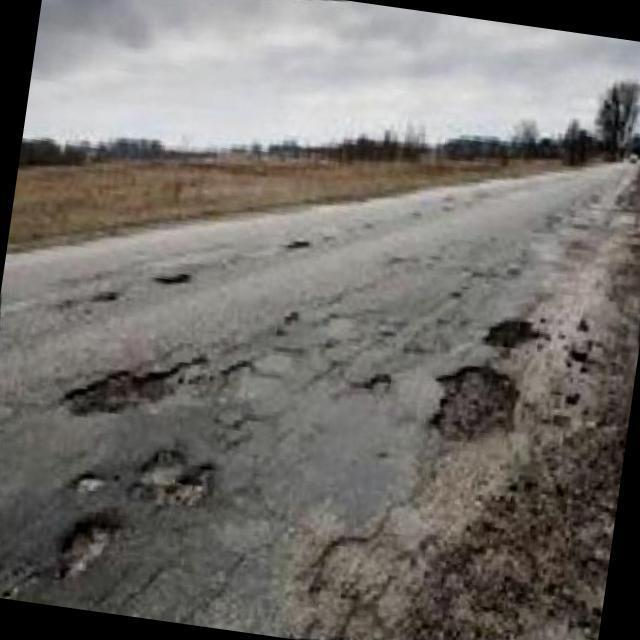Pothole: (58, 363, 197, 418), (429, 364, 519, 447), (137, 451, 214, 508), (60, 512, 119, 579), (481, 321, 541, 360)
